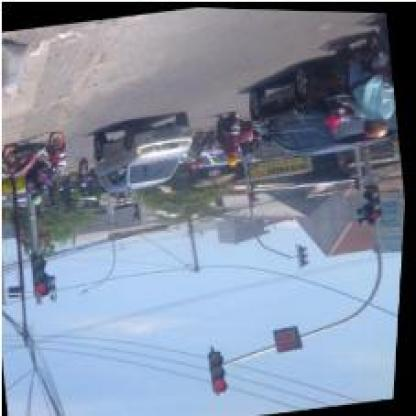red: (208, 346, 232, 392), (364, 180, 388, 224), (31, 251, 53, 295)
